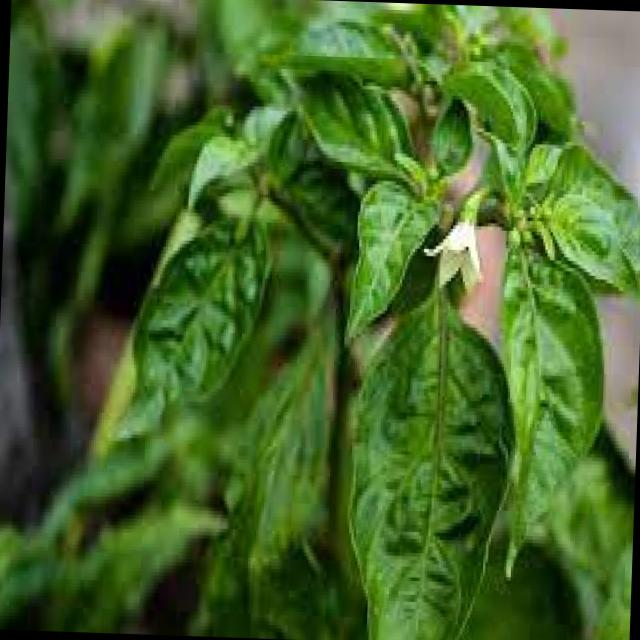Chilli_Leaf_Curl: (0, 0, 640, 640), (338, 277, 520, 640)
